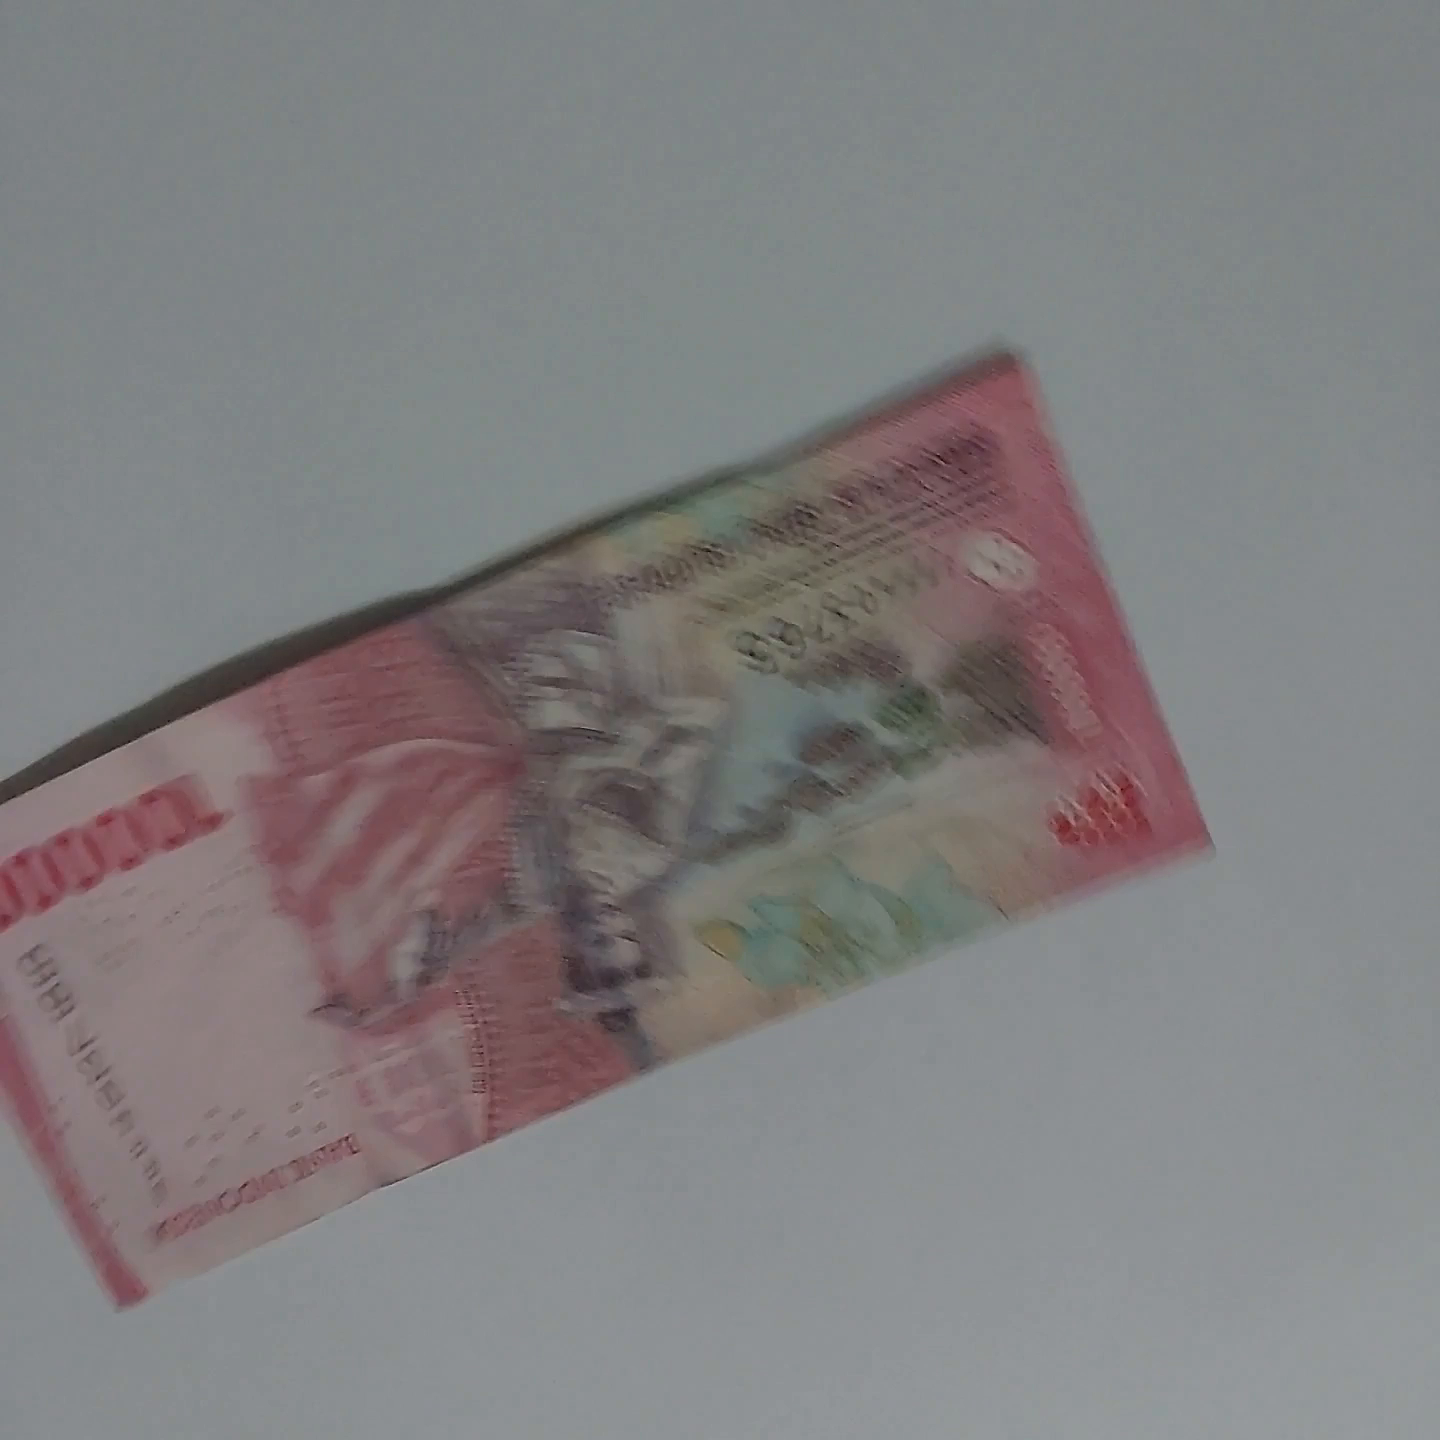100k: (7, 327, 1208, 1328)
